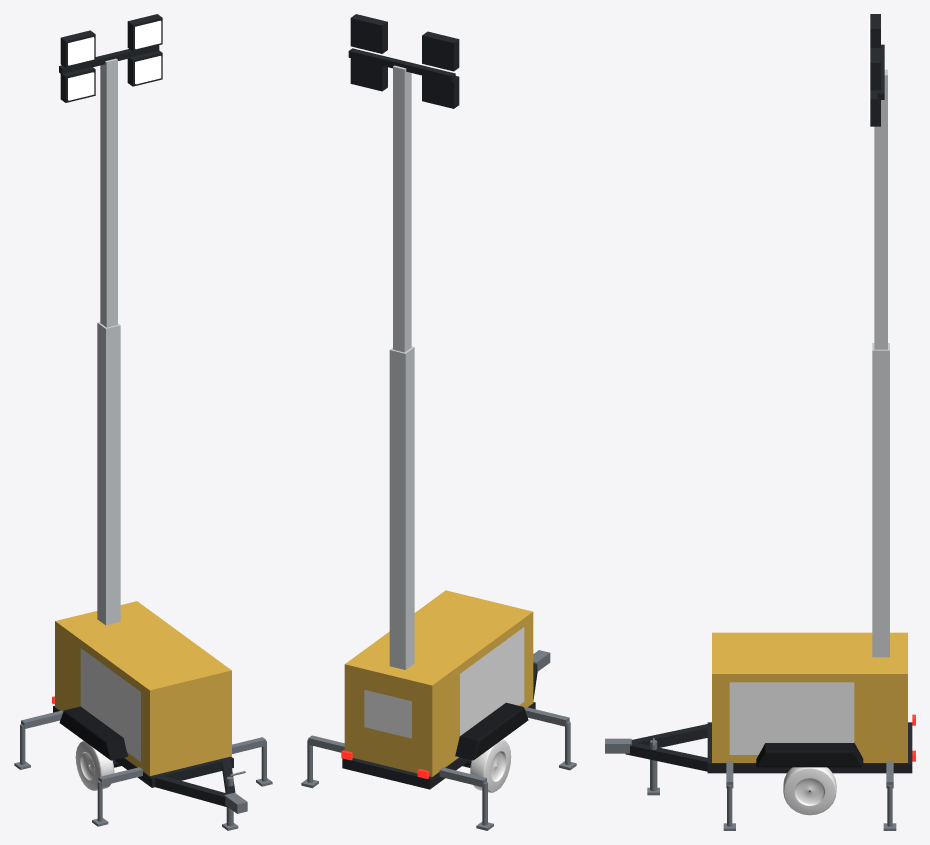
File: equipment--lightTower.glb
The picture shows the model from 3 angles, left to right: view 1: azimuth 30°, elevation 25°; view 2: azimuth 150°, elevation 25°; view 3: azimuth 270°, elevation 25°; orthographic projection. The views are drawn at different scales.
Parts seen in each view (by area): view 1: lightTower:shell, mast, lamps, mastUpper, axle, outrigger2, outrigger4, outrigger1; view 2: lightTower:shell, mast, lamps, mastUpper, controlPanel, axle, outrigger4, outrigger2, outrigger3; view 3: lightTower:shell, mast, mastUpper, axle, lamps.
Boxes of the visible parts, x1,y1,x2,y2 form: lightTower:shell: [53, 601, 247, 813]; mast: [97, 322, 120, 625]; lamps: [59, 14, 162, 102]; mastUpper: [100, 58, 117, 327]; axle: [75, 740, 114, 790]; outrigger2: [92, 767, 142, 826]; outrigger4: [14, 710, 63, 769]; outrigger1: [232, 737, 272, 786]; lightTower:shell: [342, 590, 550, 789]; mast: [389, 346, 414, 669]; lamps: [348, 14, 459, 108]; mastUpper: [393, 65, 411, 352]; controlPanel: [364, 689, 411, 738]; axle: [470, 739, 511, 792]; outrigger4: [439, 767, 493, 830]; outrigger2: [524, 707, 576, 770]; outrigger3: [301, 735, 344, 788]; lightTower:shell: [605, 632, 912, 791]; mast: [872, 343, 889, 657]; mastUpper: [874, 69, 887, 349]; axle: [783, 767, 836, 815]; lamps: [868, 14, 884, 126].
Bounding box in the file's own units: 2.34 × 9.29 × 3.49.
